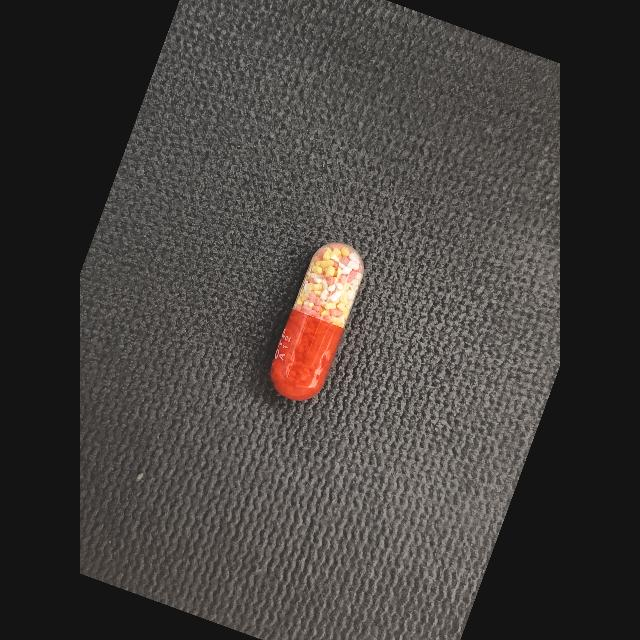Intact Capsule: (270, 243, 364, 401)
